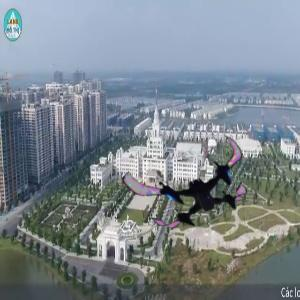drone: (139, 126, 258, 245)
